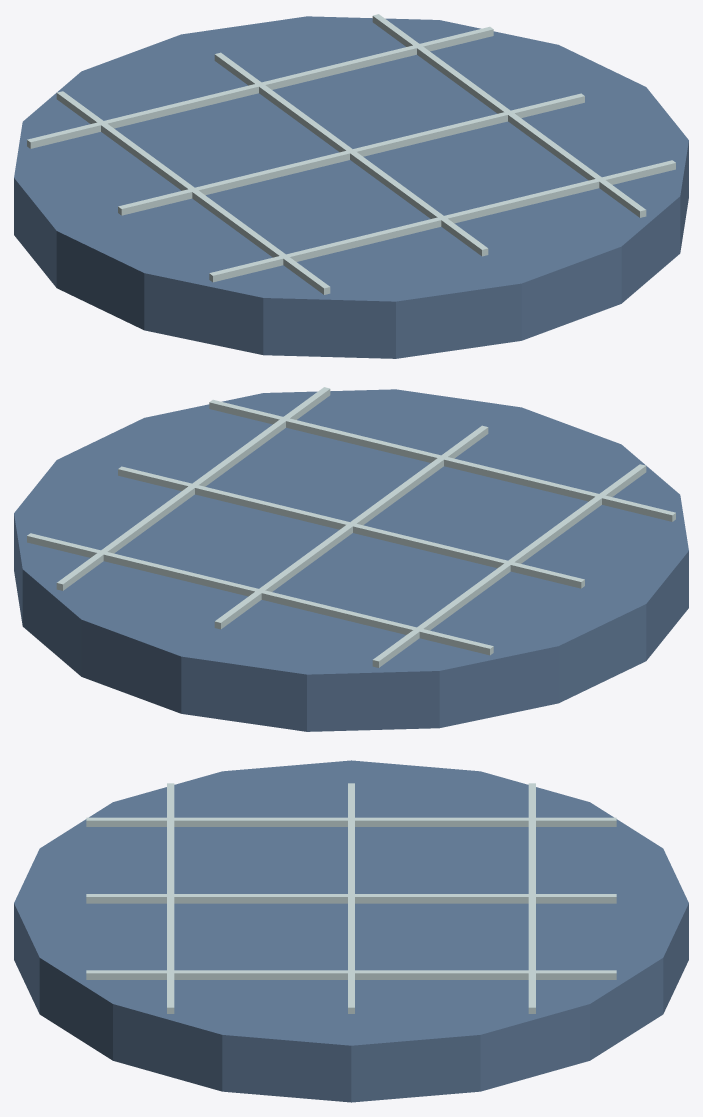
The model's file is silicon.glb.
3 renders of one model, top to bottom at view 1: azimuth 30°, elevation 25°; view 2: azimuth 150°, elevation 25°; view 3: azimuth 270°, elevation 25°, orthographic.
Parts seen in each view (by area): view 1: silicon / Silicon wafer, silicon / Quartz faces; view 2: silicon / Silicon wafer, silicon / Quartz faces; view 3: silicon / Silicon wafer, silicon / Quartz faces.
Boxes of the visible parts, x1,y1,x2,y2 form: silicon / Silicon wafer: (14,16,688,358); silicon / Quartz faces: (27,14,675,294); silicon / Silicon wafer: (14,389,688,731); silicon / Quartz faces: (27,387,675,667); silicon / Silicon wafer: (14,760,688,1102); silicon / Quartz faces: (86,783,616,1013).
Bounding box in the file's own units: 0.28 × 0.0295 × 0.28.
